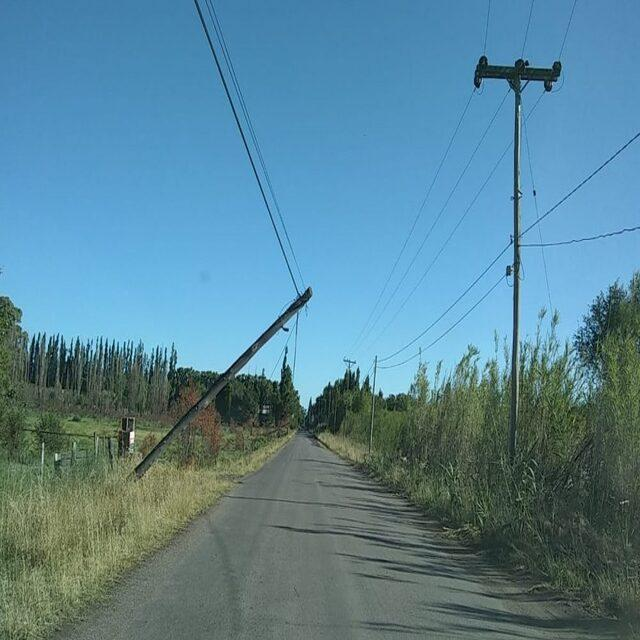Inclined Pole: (118, 283, 316, 484)
